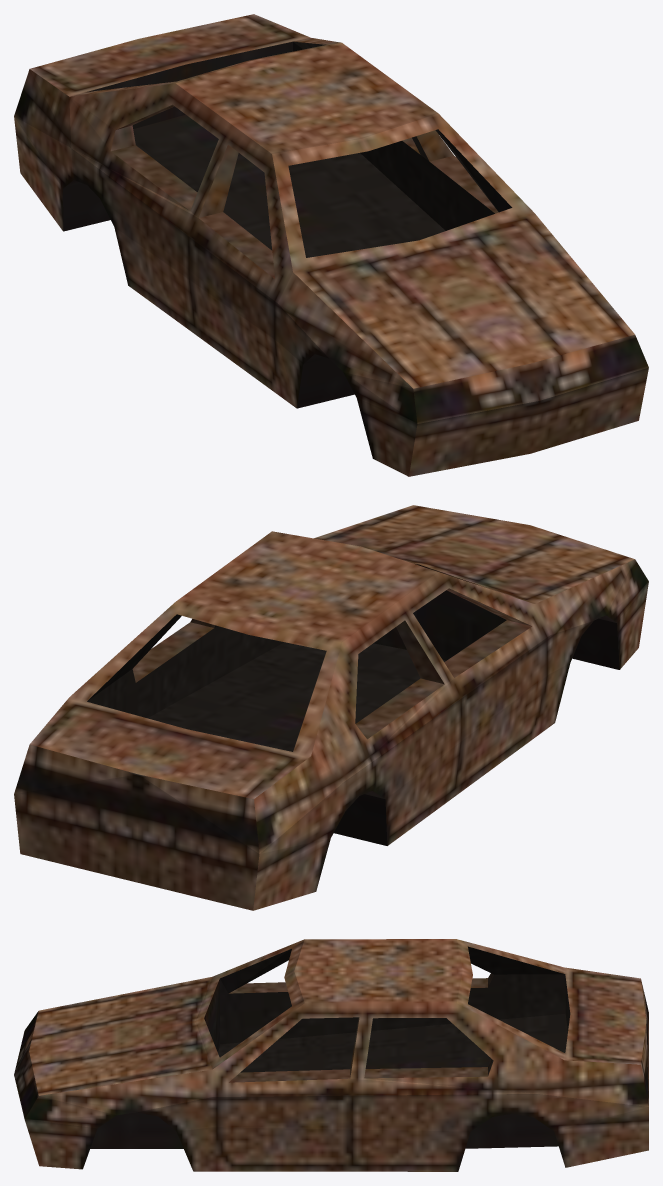
The model's file is car6.glb.
3 views of the same model, one above another, from view 1: azimuth 30°, elevation 25°; view 2: azimuth 150°, elevation 25°; view 3: azimuth 270°, elevation 25° (orthographic). The views are drawn at different scales.
Parts seen in each view (by area): view 1: Car6; view 2: Car6; view 3: Car6.
Part boxes in pixels (x1,y1,x2,y2): Car6: [14, 14, 648, 476]; Car6: [14, 505, 648, 910]; Car6: [14, 939, 648, 1171].
Bounding box in the file's own units: 2.48 × 1.67 × 6.36.
Materials: 1 (1 with a texture image).
